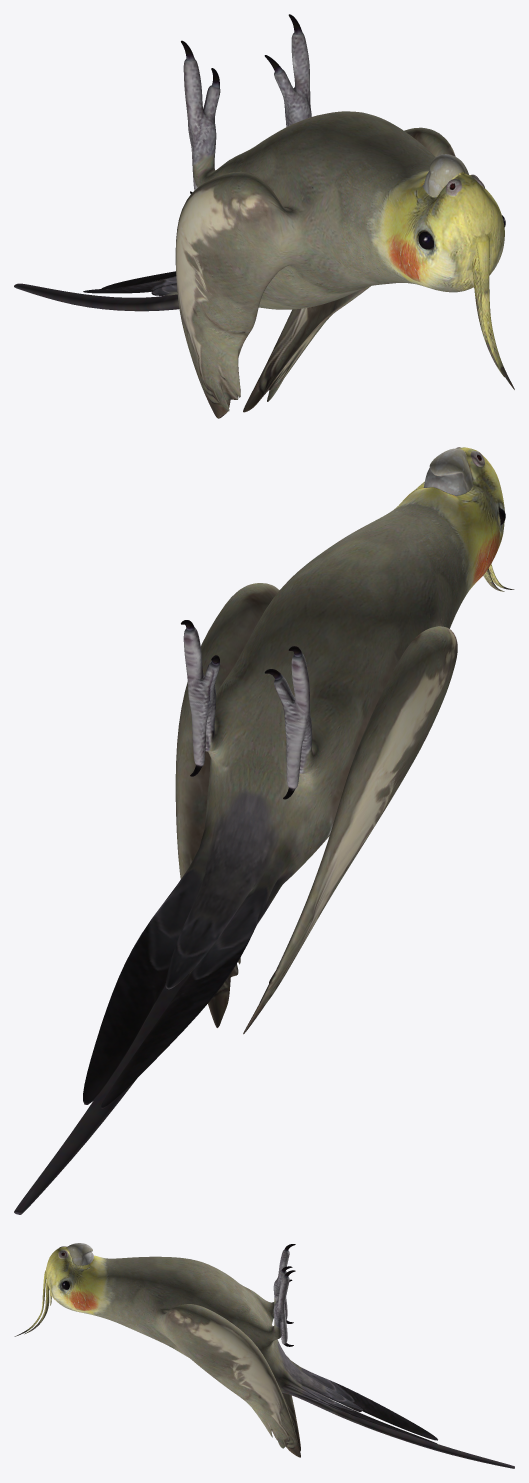
File: 12238_Australian_Cockatiel_v2_l3.obj
3 views of the same model, one above another, from view 1: azimuth 30°, elevation 25°; view 2: azimuth 150°, elevation 25°; view 3: azimuth 270°, elevation 25° (orthographic). The views are drawn at different scales.
Parts seen in each view (by area): view 1: 12238_Australian_Cockatiel; view 2: 12238_Australian_Cockatiel; view 3: 12238_Australian_Cockatiel.
Boxes of the visible parts, x1,y1,x2,y2 form: 12238_Australian_Cockatiel: [14, 14, 514, 418]; 12238_Australian_Cockatiel: [14, 447, 514, 1214]; 12238_Australian_Cockatiel: [14, 1243, 514, 1468].
Size of the model in its own units: 7.94 by 15.64 by 31.6.
Materials: 1 (1 with a texture image).
